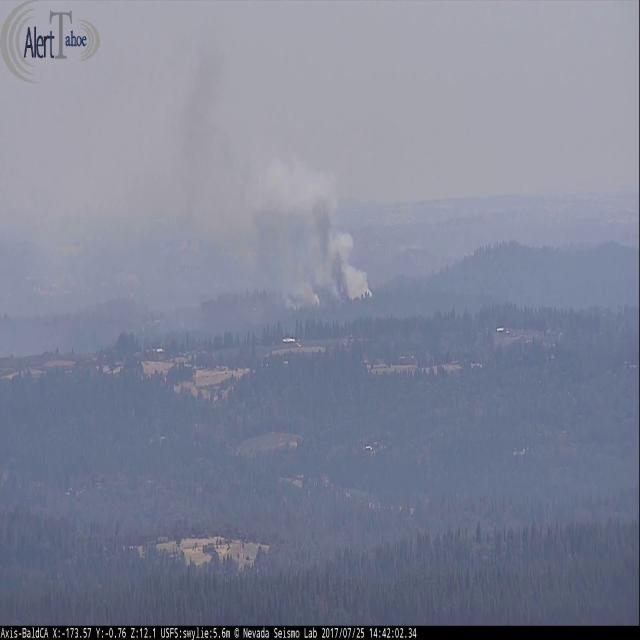smoke: (141, 29, 389, 322)
